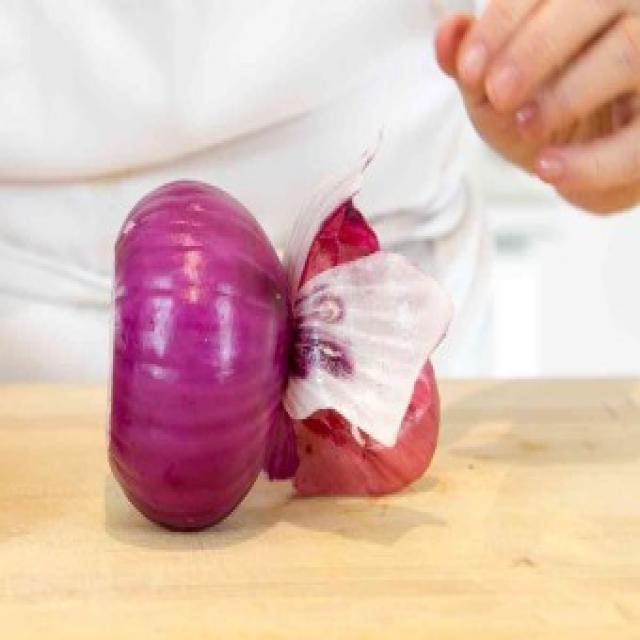onion: (97, 135, 475, 532)
